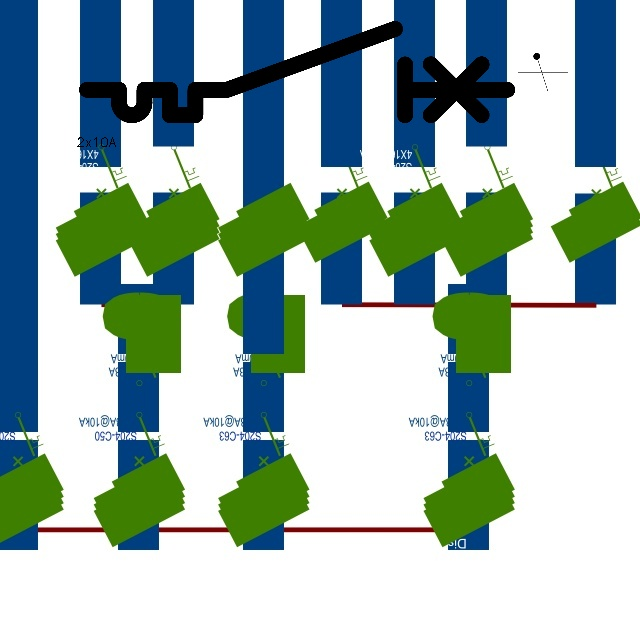interruptor_termomagnetico: (76, 18, 518, 126)
